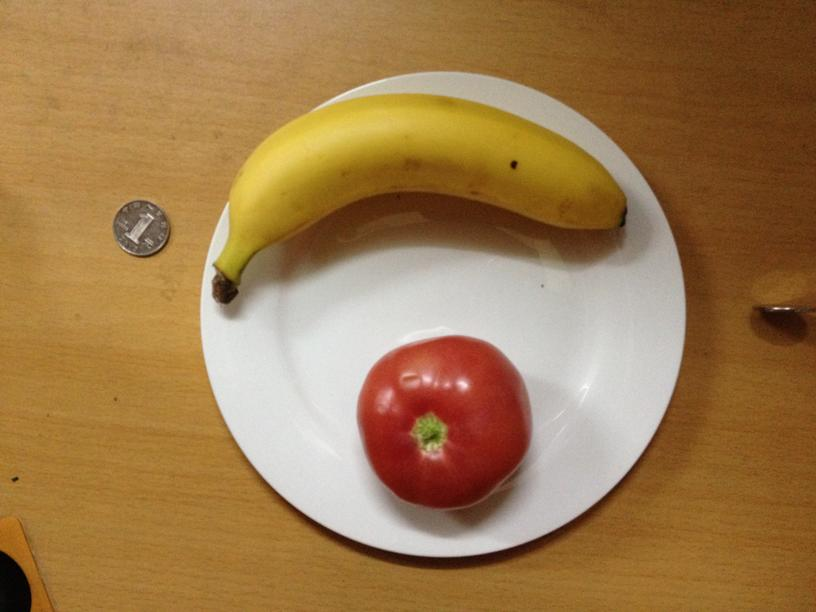banana: (222, 95, 627, 272)
coin: (111, 201, 170, 257)
tomato: (354, 333, 531, 511)
